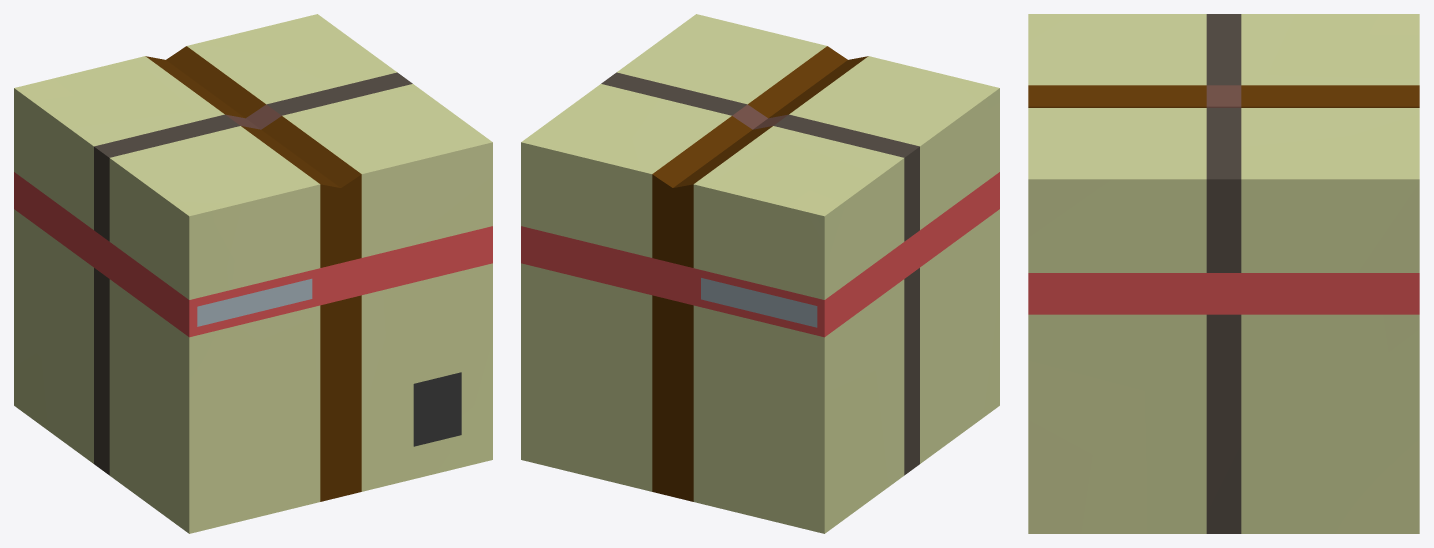
The picture shows the model from 3 angles, left to right: view 1: azimuth 30°, elevation 25°; view 2: azimuth 150°, elevation 25°; view 3: azimuth 270°, elevation 25°; orthographic projection. The views are drawn at different scales.
Visible parts, largest first — view 1: SM_Box_C_D; view 2: SM_Box_C_D; view 3: SM_Box_C_D.
Boxes of the visible parts, x1=… form: SM_Box_C_D: x1=14, y1=14, x2=492, y2=533; SM_Box_C_D: x1=521, y1=14, x2=999, y2=533; SM_Box_C_D: x1=1028, y1=14, x2=1419, y2=533.
Bounding box in the file's own units: 61.57 × 61.57 × 61.57.
